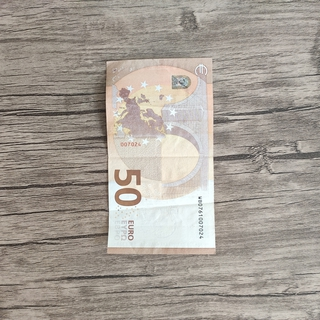50EUROBack: (105, 56, 217, 255)
